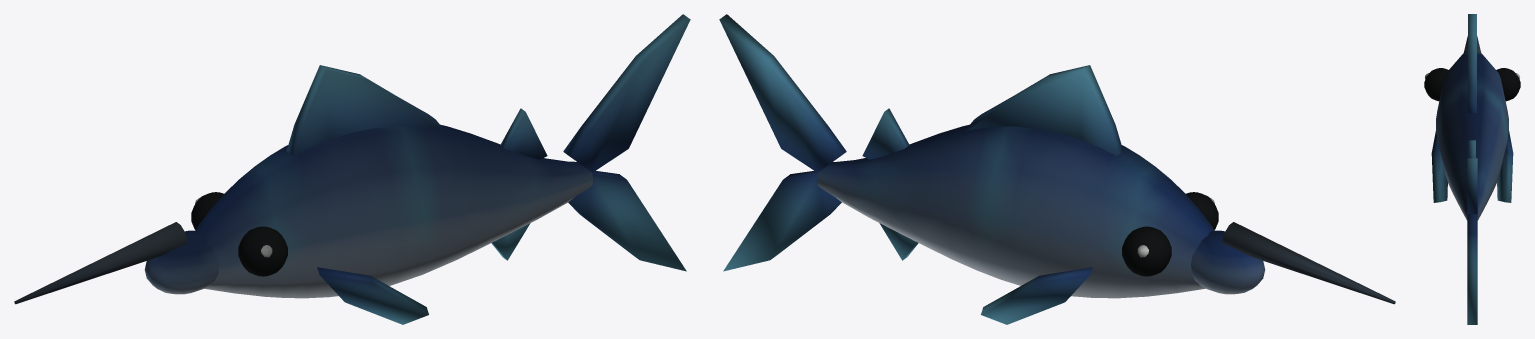
File: Marlin.glb
The picture shows the model from 3 angles, left to right: view 1: azimuth 30°, elevation 25°; view 2: azimuth 150°, elevation 25°; view 3: azimuth 270°, elevation 25°; orthographic projection. The views are drawn at different scales.
Visible parts, largest first — view 1: Marlin; view 2: Marlin; view 3: Marlin.
Boxes of the visible parts, x1,y1,x2,y2 form: Marlin: (14,14,690,324); Marlin: (719,14,1395,324); Marlin: (1424,14,1520,324).
Bounding box in the file's own units: 1.85 × 0.76 × 0.3422.
